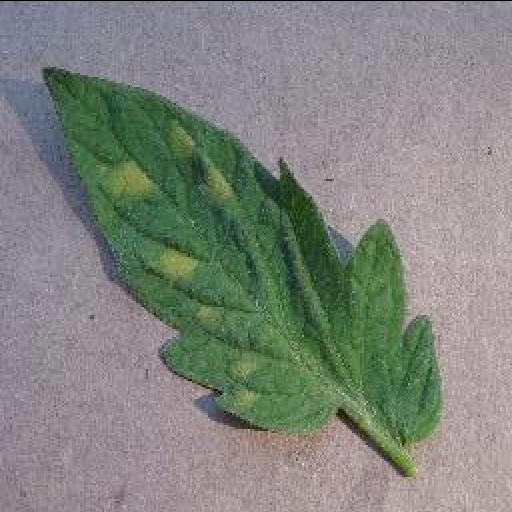disease_tomato: (37, 69, 443, 450)
